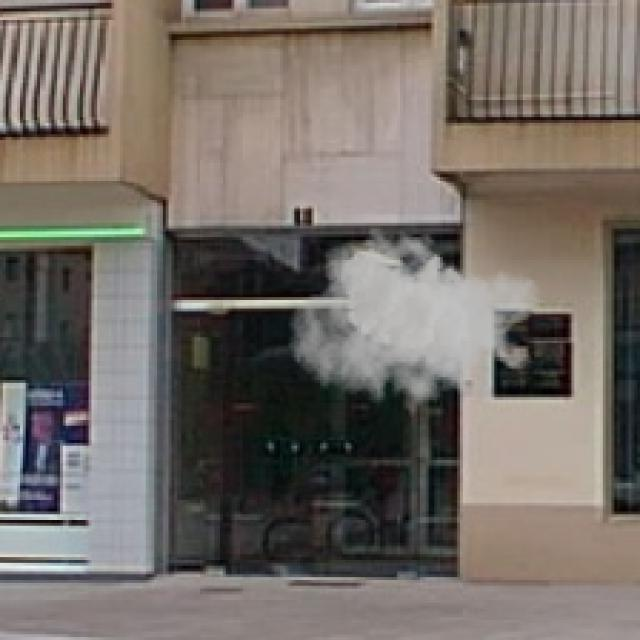smoke: (288, 225, 543, 426)
